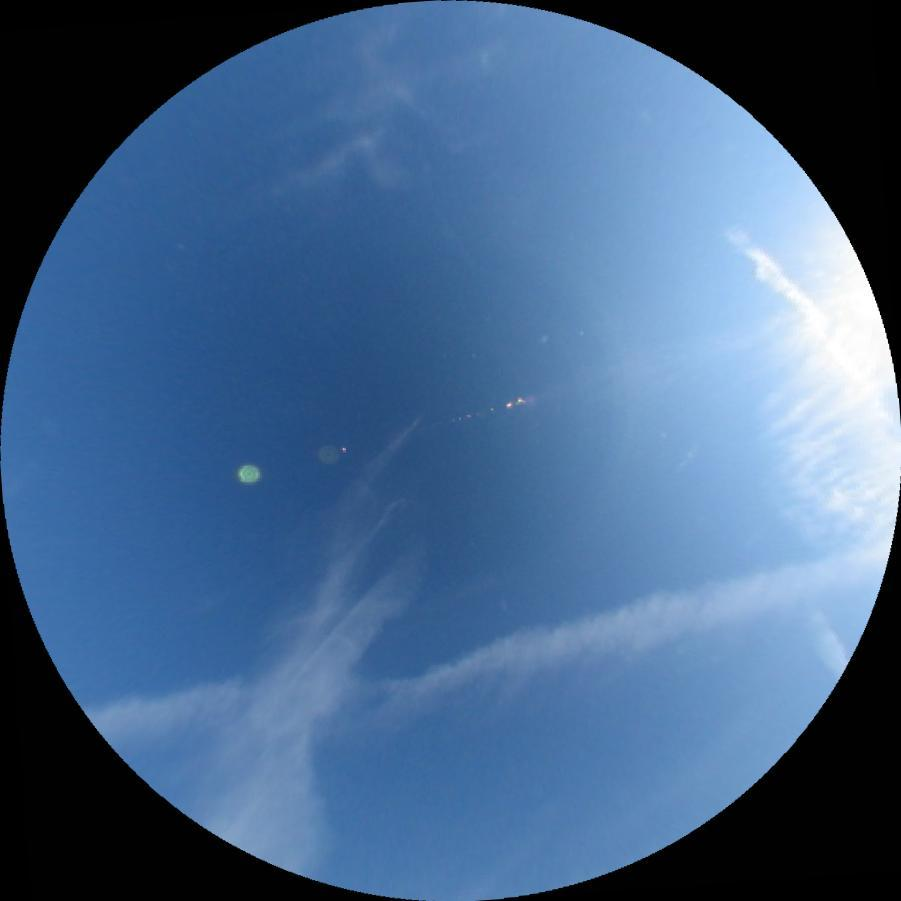contrail old: (717, 214, 901, 433), (793, 593, 855, 681)
